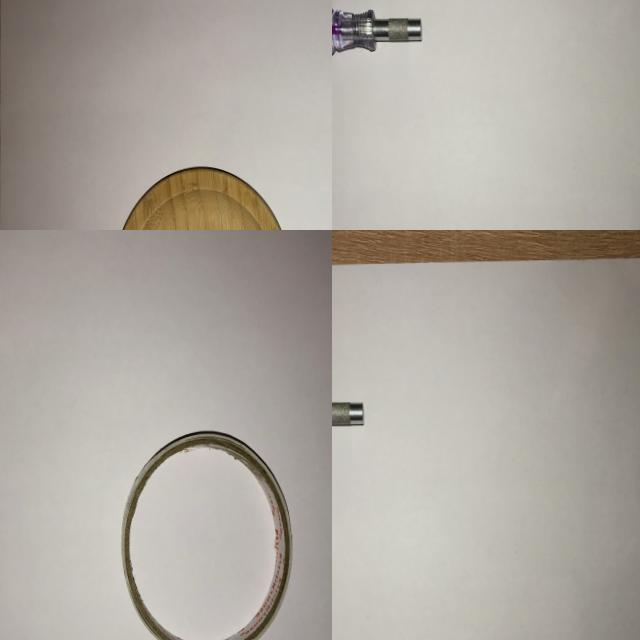cup_holder: (103, 155, 299, 230)
scotch: (113, 422, 299, 640)
screwdriver: (332, 0, 435, 65), (332, 378, 377, 449)
